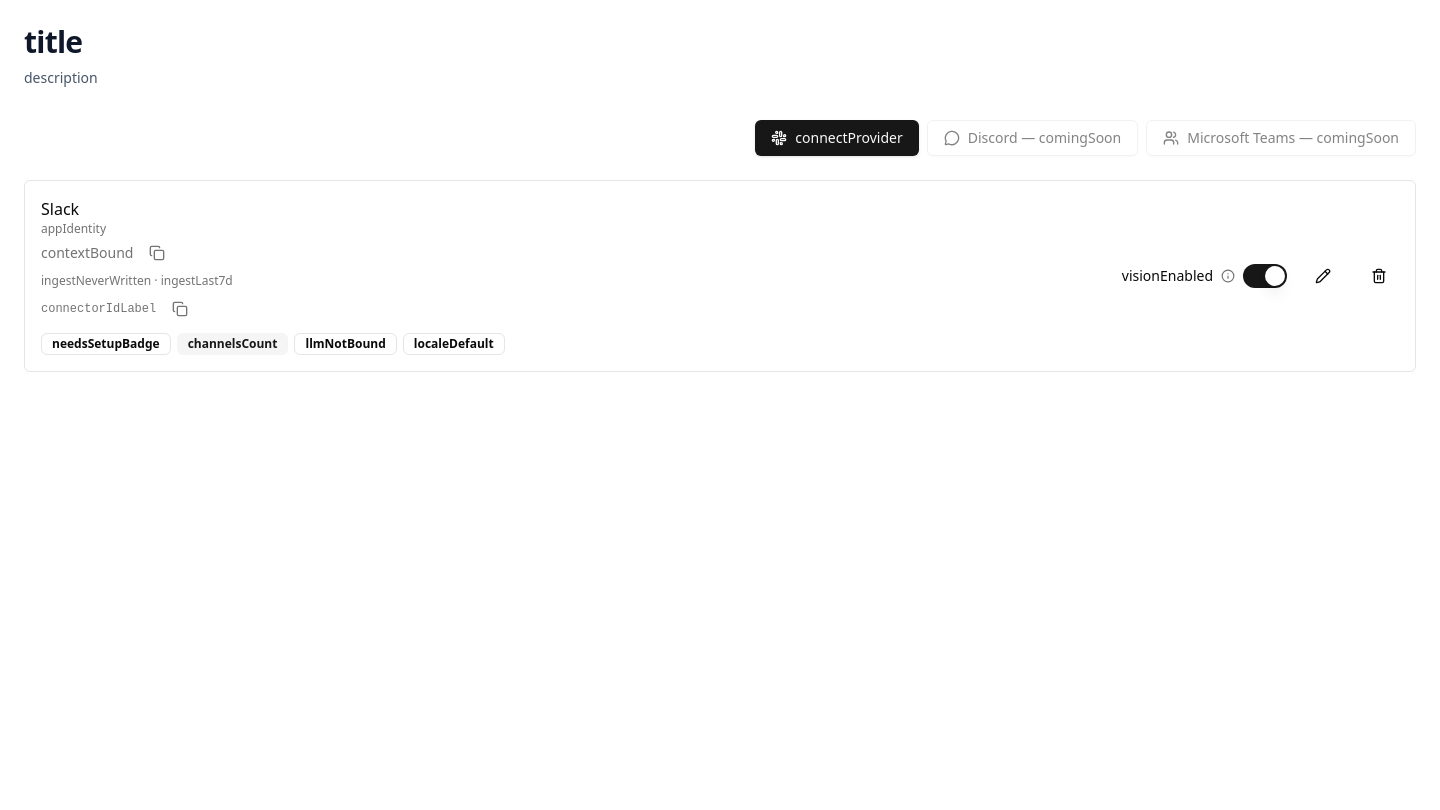
Test: ConnectorsPage RBAC gate › hides the LLM delete action when nothing is stored (#1388)
Click the button named "editSettings" at (1323,276), box [1303,260,1343,292]
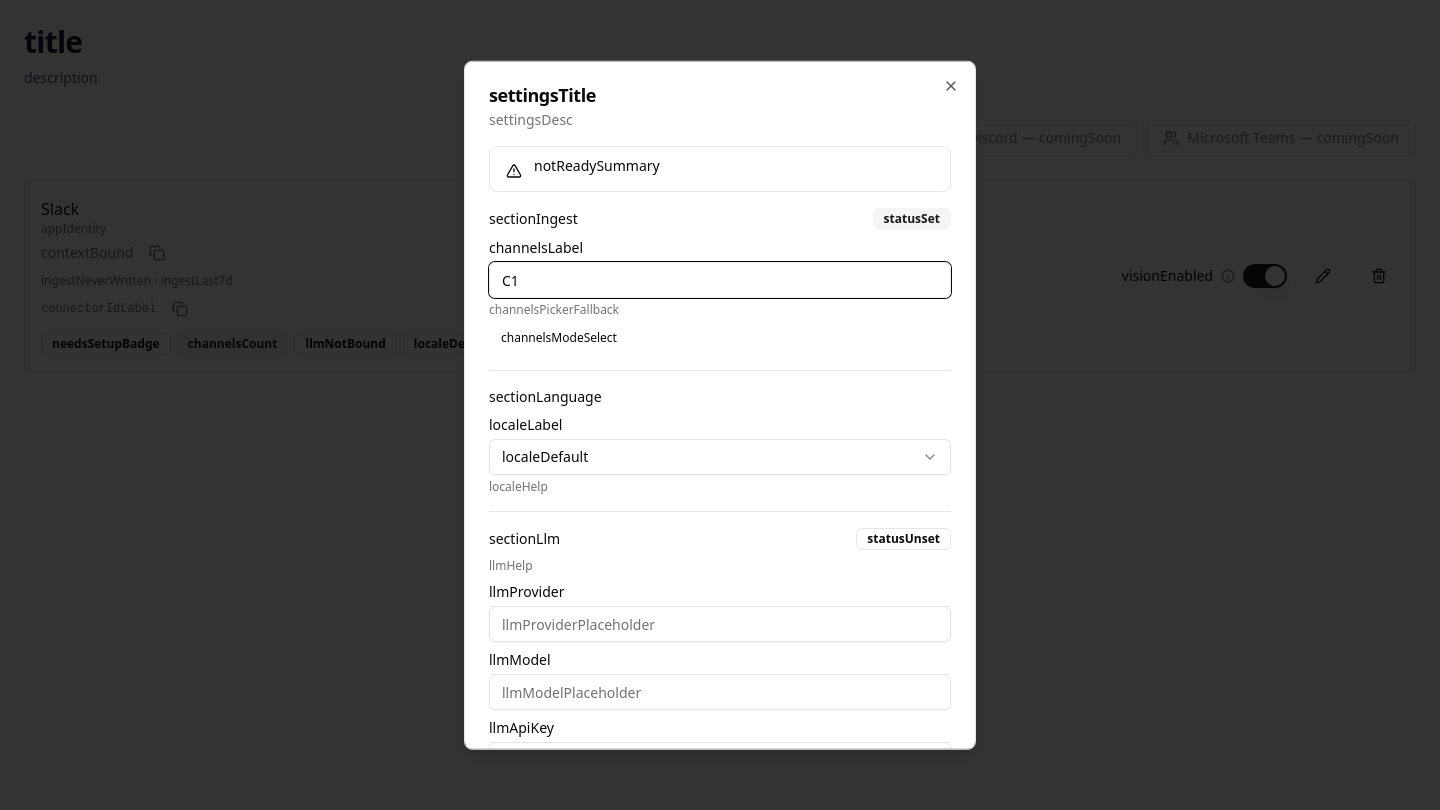
Expected: the field named "channelsLabel" is shown, [489,262,951,298]
